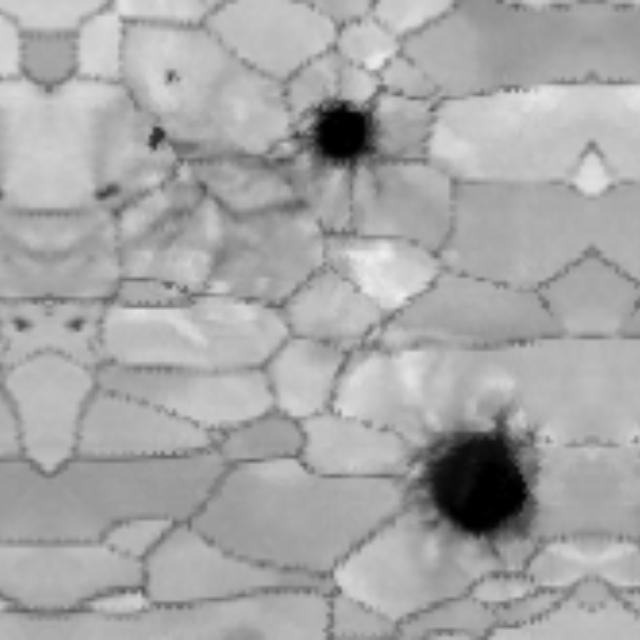good_void: (405, 428, 548, 560), (292, 90, 386, 183), (90, 172, 123, 217), (155, 58, 182, 102), (57, 309, 90, 340), (6, 309, 39, 340), (145, 111, 164, 159), (190, 179, 209, 211)
